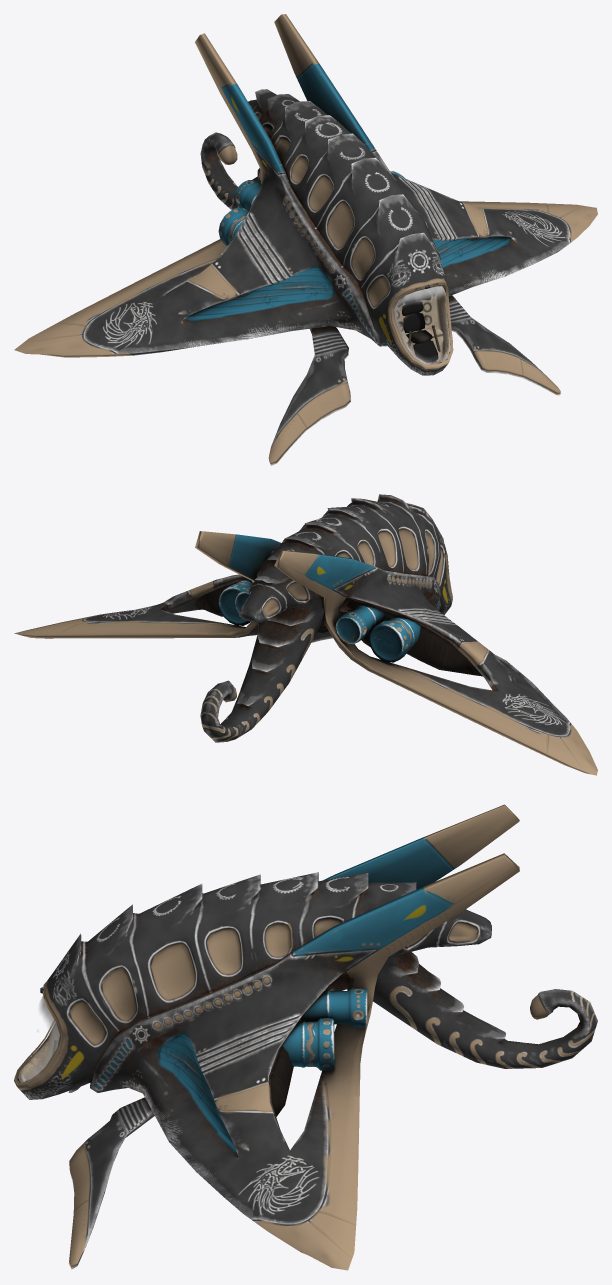
File: loky.glb
3 views of the same model, one above another, from view 1: azimuth 30°, elevation 25°; view 2: azimuth 150°, elevation 25°; view 3: azimuth 270°, elevation 25° (orthographic). The views are drawn at different scales.
Visible parts, largest first — view 1: export:WingR, export:Ship, export:WingL1, export:LilWingR, export:LilWingL, polySurface1, polySurface2, export:reacRbig; view 2: export:Ship, export:WingR, export:WingL1, export:UnderWingR, export:reacRbig, export:ReacRlit, export:reacLBig, export:UnderWingL2; view 3: export:WingL1, export:Ship, export:WingR, export:LilWingL, export:reacLBig, export:ReacLlit, polySurface1, export:UnderWingL2, polySurface2.
Part boxes in pixels (x1,y1,x2,y2): export:WingR: [14, 33, 387, 357]; export:Ship: [200, 89, 453, 375]; export:WingL1: [274, 14, 597, 296]; export:LilWingR: [268, 326, 350, 465]; export:LilWingL: [448, 295, 560, 395]; polySurface1: [390, 284, 453, 368]; polySurface2: [394, 286, 449, 364]; export:reacRbig: [218, 207, 249, 245]; export:Ship: [200, 494, 452, 742]; export:WingR: [274, 550, 597, 775]; export:WingL1: [14, 531, 281, 638]; export:UnderWingR: [346, 599, 482, 676]; export:reacRbig: [369, 616, 420, 662]; export:ReacRlit: [335, 603, 384, 644]; export:reacLBig: [218, 579, 252, 625]; export:UnderWingL2: [194, 583, 236, 616]; export:WingL1: [90, 853, 519, 1270]; export:Ship: [17, 872, 597, 1099]; export:WingR: [323, 804, 519, 991]; export:LilWingL: [68, 1097, 154, 1269]; export:reacLBig: [282, 1018, 334, 1070]; export:ReacLlit: [301, 988, 367, 1027]; polySurface1: [14, 992, 62, 1086]; export:UnderWingL2: [270, 1018, 301, 1116]; polySurface2: [19, 996, 59, 1082].
Bounding box in the file's own units: 46.93 × 21.58 × 32.5.
Materials: 1 (1 with a texture image).
